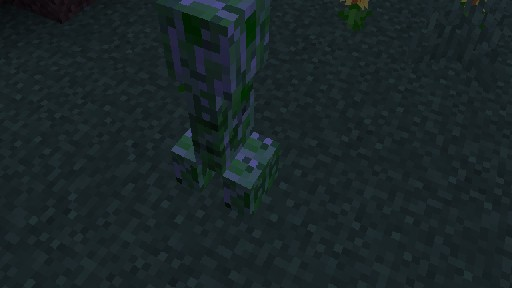creeper: (155, 0, 279, 219)
